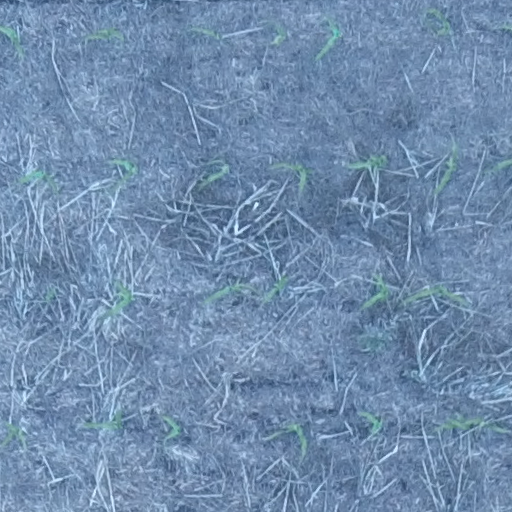planta: (398, 281, 468, 308), (261, 420, 310, 458), (432, 412, 509, 435), (430, 141, 460, 197), (270, 159, 314, 194), (313, 15, 344, 62), (201, 280, 257, 306), (101, 278, 137, 318), (358, 272, 393, 312), (16, 166, 61, 196), (108, 155, 140, 192), (194, 161, 231, 192), (81, 408, 125, 433), (345, 152, 390, 174), (260, 272, 290, 305), (424, 5, 452, 38), (83, 24, 126, 43), (357, 409, 385, 437), (159, 411, 183, 440), (191, 24, 222, 41), (270, 24, 289, 48), (42, 286, 58, 303)
